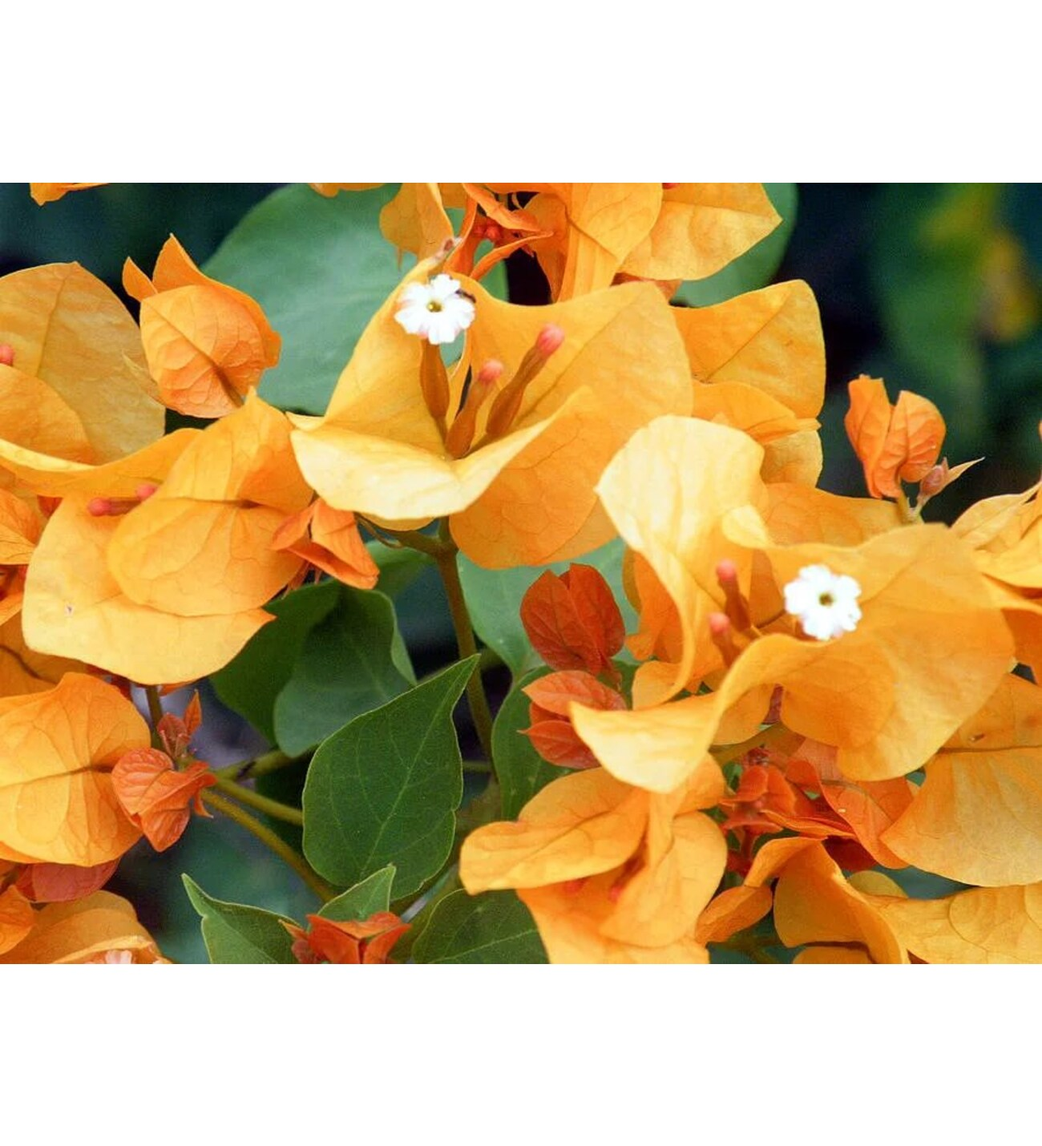rose: (8, 189, 1040, 961), (592, 420, 1004, 853), (324, 248, 710, 613)
